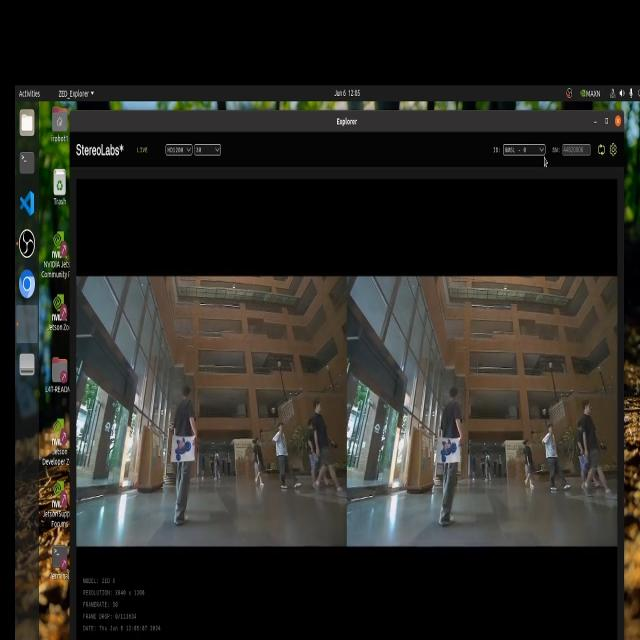blue: (176, 437, 193, 466), (443, 446, 463, 464)
